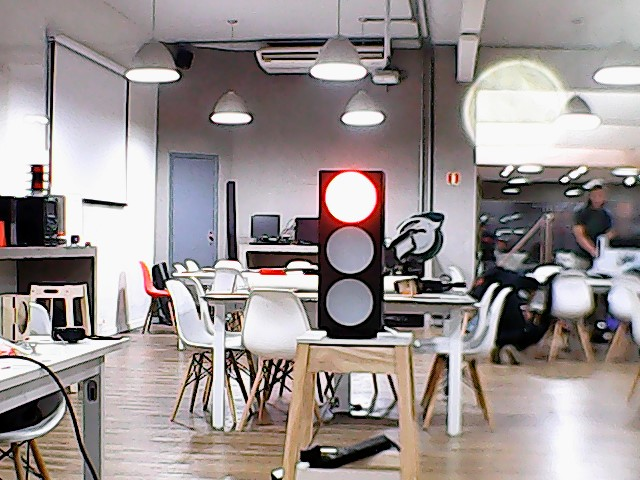vermelho: (314, 165, 384, 337)
